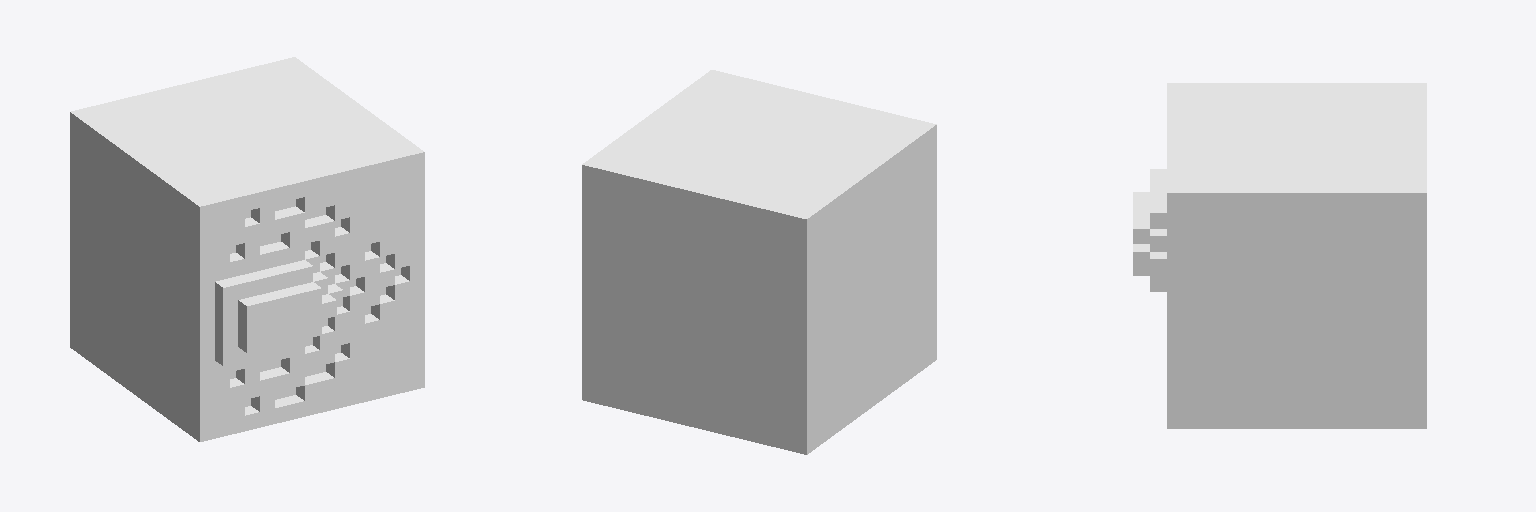
File: projectile_strength_cube.obj
3 views of the same model, side by side, from view 1: azimuth 30°, elevation 25°; view 2: azimuth 150°, elevation 25°; view 3: azimuth 270°, elevation 25° (orthographic).
Parts seen in each view (by area): view 1: object 1; view 2: object 1; view 3: object 1.
Part boxes in pixels (x1,y1,x2,y2): object 1: (70, 57, 424, 441); object 1: (582, 70, 936, 454); object 1: (1133, 83, 1426, 428).
Bounding box in the file's own units: 1.5 × 1.5 × 1.7.